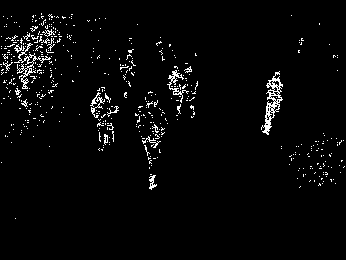person: (130, 86, 172, 196), (89, 85, 122, 160), (263, 70, 287, 146), (184, 63, 204, 119), (167, 64, 184, 113)
